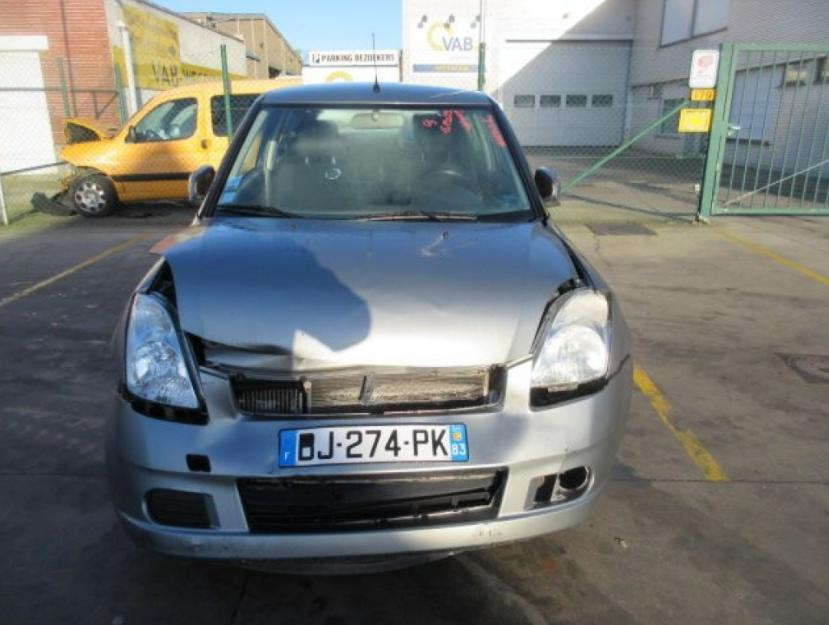Fender: (545, 214, 634, 379), (110, 255, 163, 385)
Front-bumper: (106, 358, 633, 559)
Grille: (229, 367, 506, 414)
Headlight: (530, 288, 612, 410), (125, 293, 206, 410)
Hood: (152, 218, 581, 374)
License-plate: (280, 426, 468, 468)
Mirror: (187, 165, 215, 204), (535, 167, 562, 206)
Roof: (260, 83, 496, 108)
Windshield: (208, 107, 535, 221)
